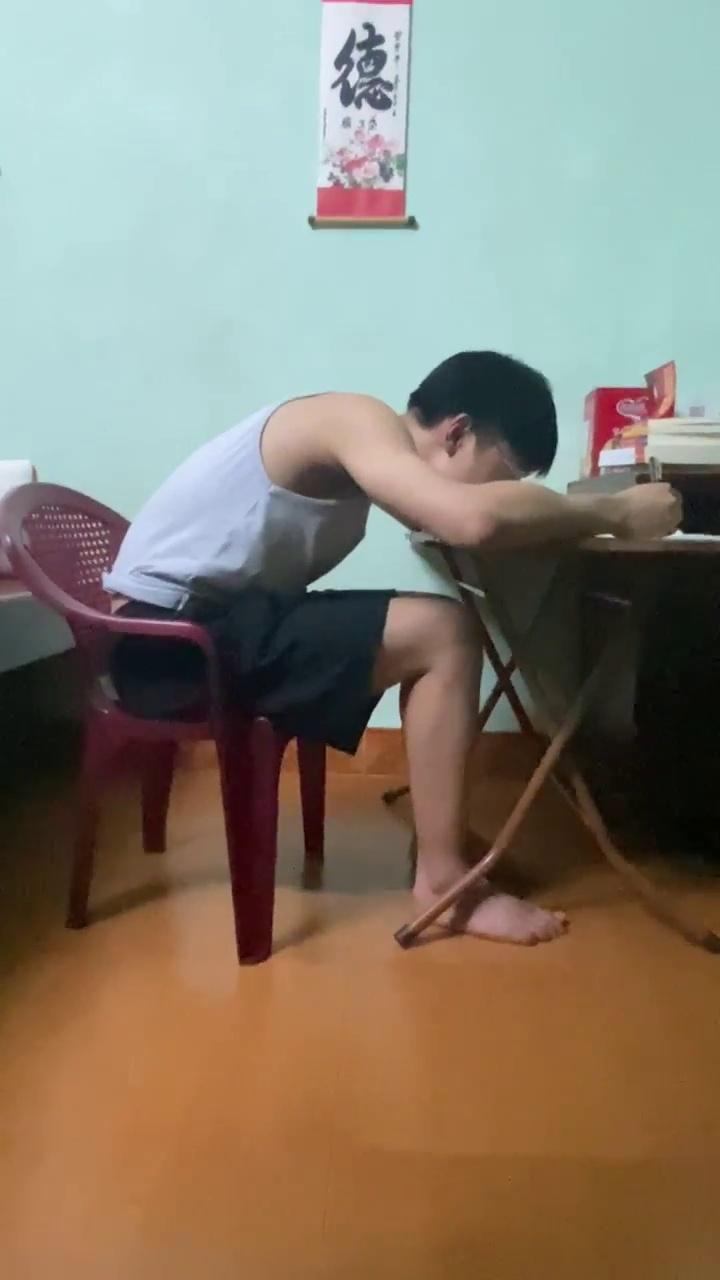BadPosture: (105, 351, 677, 906)
